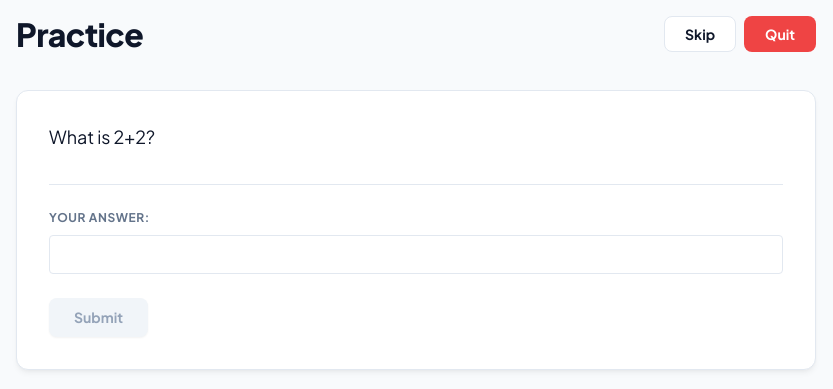
ActivePracticePage › shows loading state during grading
Check: the button with test id "submit-button" is shown, box [49, 298, 148, 337]
Type "4" into the field. click: point(416, 254)
box: [49, 235, 783, 274]
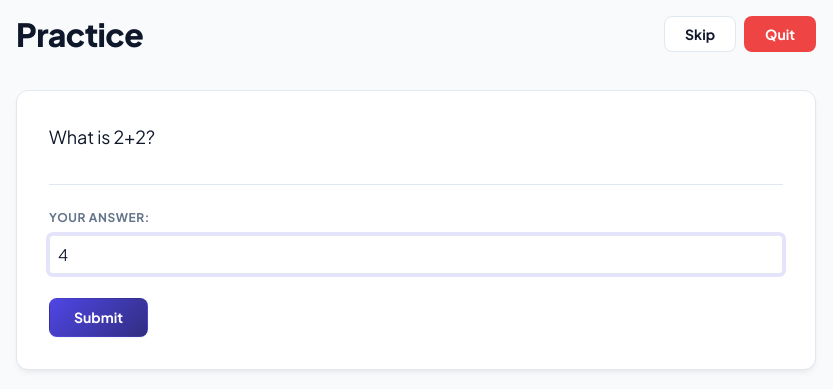
Click the button with test id "submit-button". click: point(98, 317)
box: [49, 298, 148, 337]
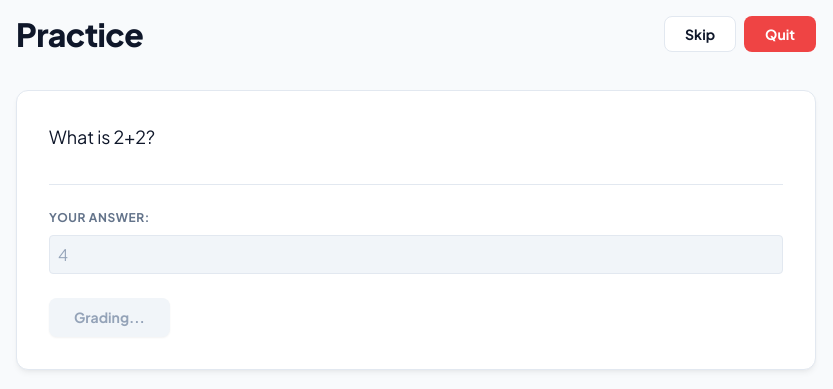
Check: the button "Grading..." is shown, box [49, 298, 170, 337]
